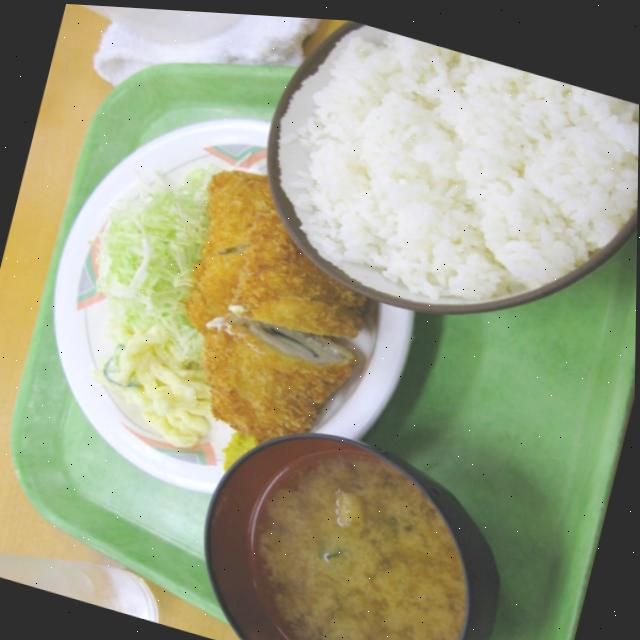米饭主食: (228, 11, 640, 376)
